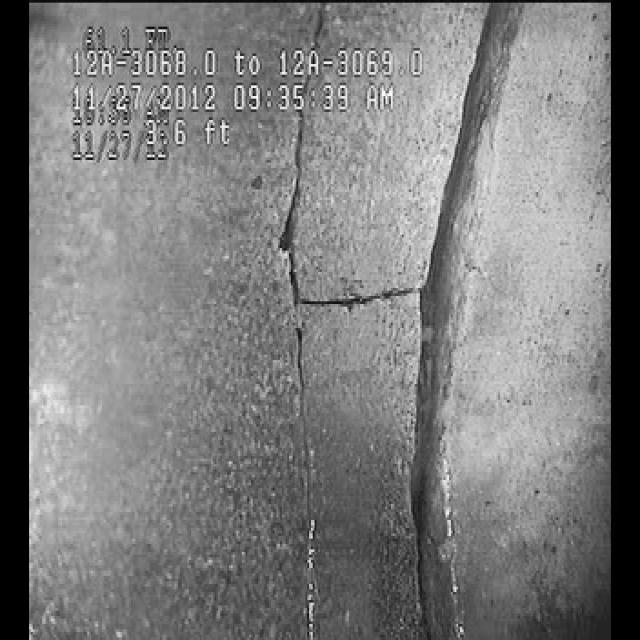Crack: (265, 150, 423, 632)
